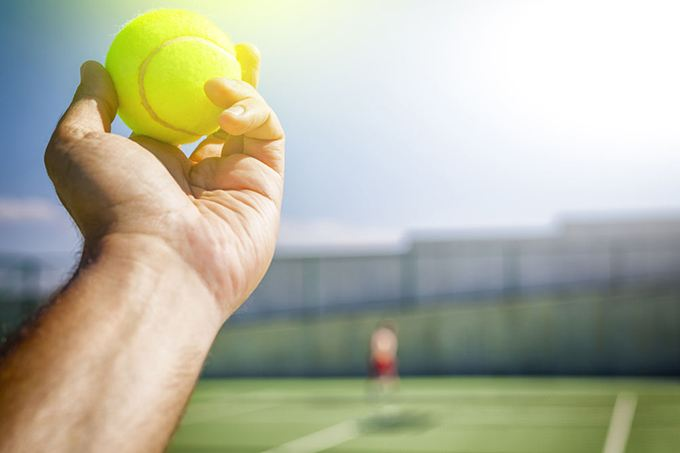no-phone: (36, 3, 288, 317)
